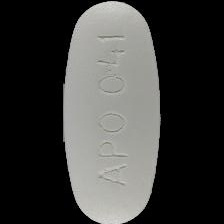42549-511: (0, 0, 224, 224)
